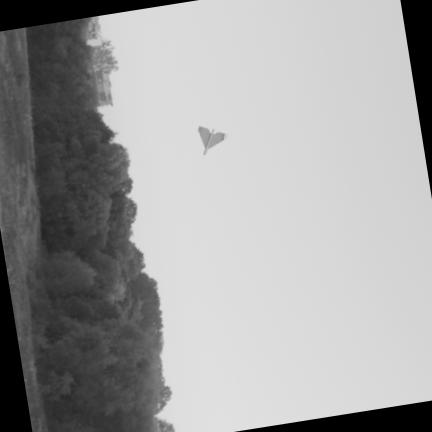Shahed: (197, 126, 227, 155)
